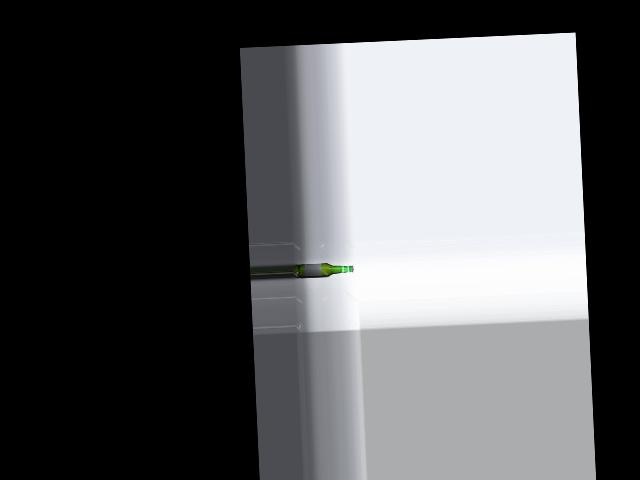beer: (298, 262, 353, 278)
